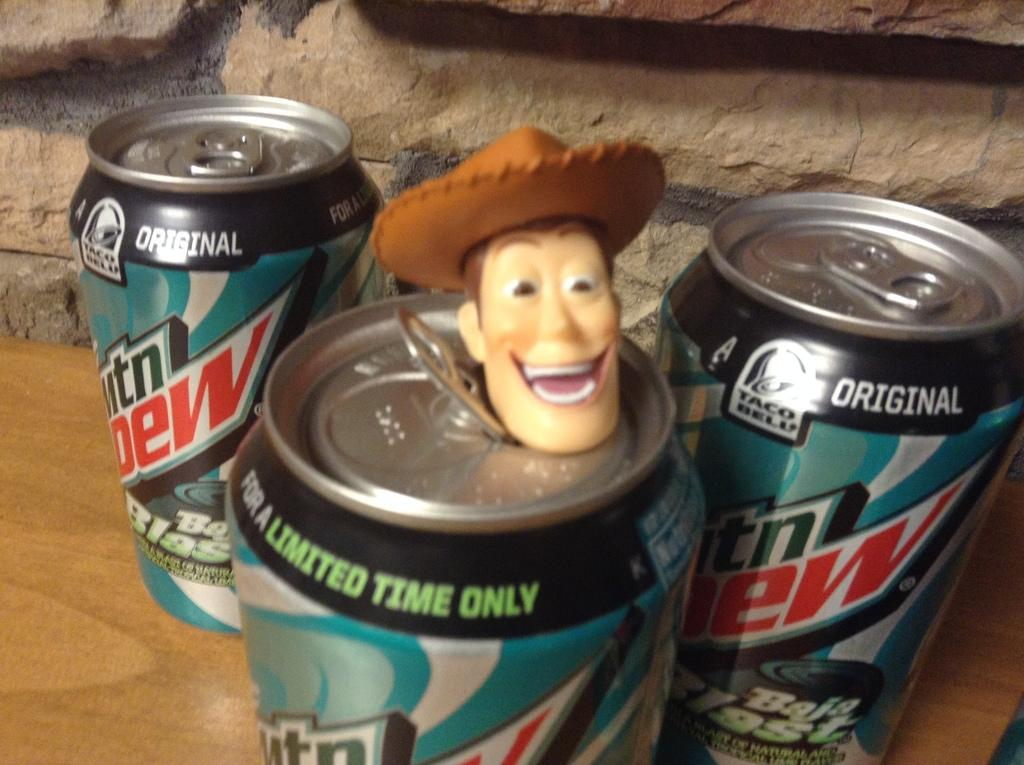Hat: (370, 124, 668, 292)
